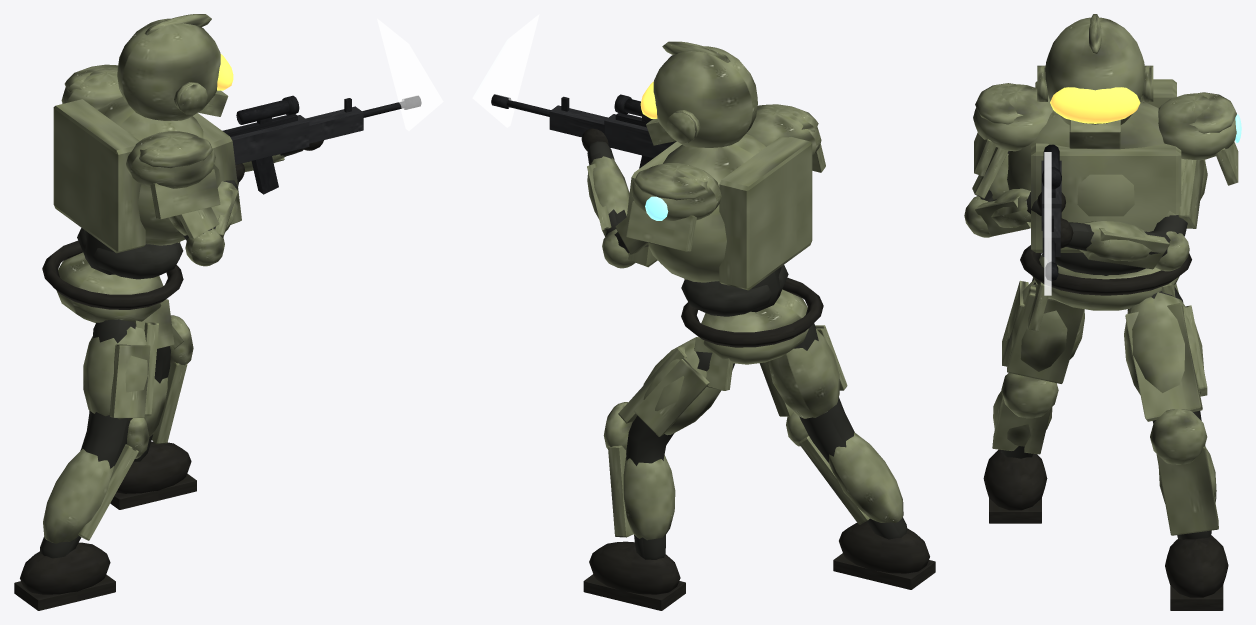
The model's file is unit_spartan_1.glb.
3 renders of one model, left to right at view 1: azimuth 30°, elevation 25°; view 2: azimuth 150°, elevation 25°; view 3: azimuth 270°, elevation 25°, orthographic. The views are drawn at different scales.
Parts seen in each view (by area): view 1: unit_spartan_1; view 2: unit_spartan_1; view 3: unit_spartan_1.
Part boxes in pixels (left/top/right/bottom): unit_spartan_1: left=14, top=14, right=443, bottom=610; unit_spartan_1: left=472, top=14, right=935, bottom=610; unit_spartan_1: left=964, top=14, right=1241, bottom=610.
Bounding box in the file's own units: 1.72 × 1.94 × 0.8722.
Materials: 8 (5 with a texture image).
